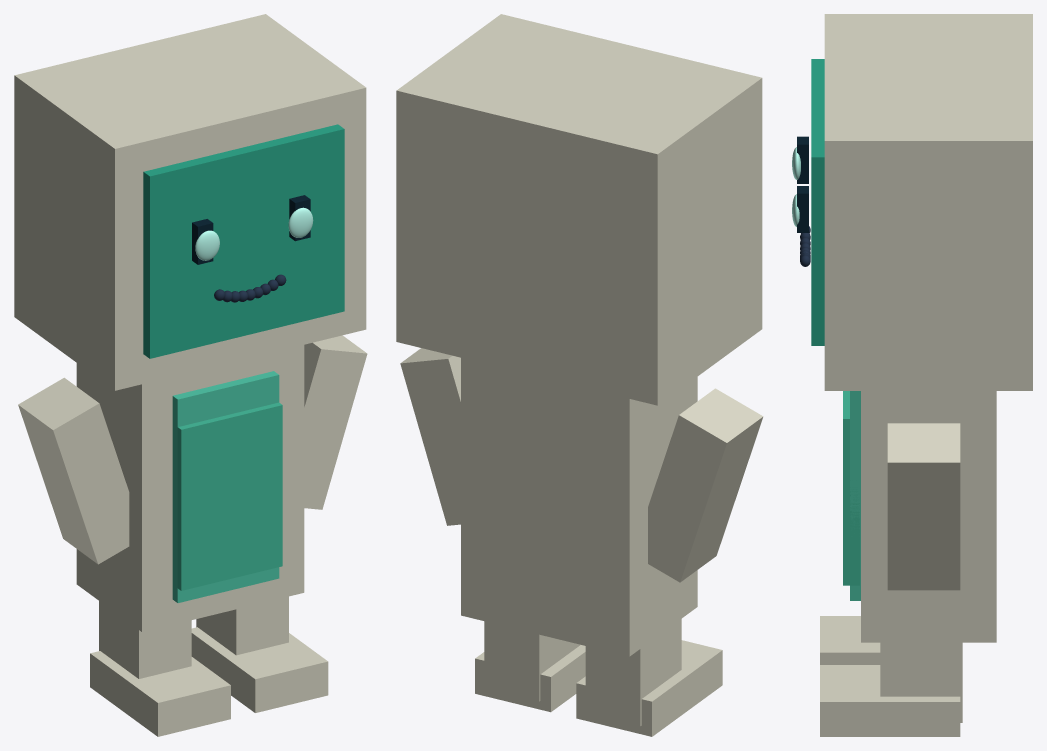
The model's file is tutorbot.glb.
The picture shows the model from 3 angles, left to right: view 1: azimuth 30°, elevation 25°; view 2: azimuth 150°, elevation 25°; view 3: azimuth 270°, elevation 25°; orthographic projection. The views are drawn at different scales.
Visible parts, largest first — view 1: tutorbot-part-00, tutorbot-part-09, tutorbot-part-01, tutorbot-part-10, tutorbot-part-05, tutorbot-part-04, tutorbot-part-08, tutorbot-part-07, tutorbot-part-02, tutorbot-part-03, tutorbot-part-06, tutorbot-part-13 (+1 smaller); view 2: tutorbot-part-00, tutorbot-part-01, tutorbot-part-05, tutorbot-part-08, tutorbot-part-03, tutorbot-part-04, tutorbot-part-06, tutorbot-part-07; view 3: tutorbot-part-00, tutorbot-part-01, tutorbot-part-08, tutorbot-part-07, tutorbot-part-06, tutorbot-part-09, tutorbot-part-04, tutorbot-part-10, tutorbot-part-02, tutorbot-part-12, tutorbot-part-11.
Boxes of the visible parts, x1,y1,x2,y2 form: tutorbot-part-00: (14, 14, 366, 390); tutorbot-part-09: (143, 124, 344, 358); tutorbot-part-01: (76, 345, 304, 632); tutorbot-part-10: (177, 402, 282, 590); tutorbot-part-05: (18, 377, 129, 564); tutorbot-part-04: (90, 651, 230, 736); tutorbot-part-08: (304, 335, 367, 509); tutorbot-part-07: (191, 627, 328, 712); tutorbot-part-02: (172, 371, 279, 602); tutorbot-part-03: (99, 601, 191, 678); tutorbot-part-06: (196, 596, 288, 655); tutorbot-part-13: (195, 230, 219, 260); tutorbot-part-00: (396, 14, 762, 405); tutorbot-part-01: (461, 358, 697, 656); tutorbot-part-05: (648, 388, 763, 582); tutorbot-part-08: (400, 348, 460, 525); tutorbot-part-03: (585, 619, 681, 726); tutorbot-part-04: (576, 640, 722, 736); tutorbot-part-06: (484, 621, 580, 701); tutorbot-part-07: (475, 645, 585, 712); tutorbot-part-00: (824, 14, 1032, 390); tutorbot-part-01: (861, 391, 996, 642); tutorbot-part-08: (887, 423, 960, 590); tutorbot-part-07: (820, 665, 960, 736); tutorbot-part-06: (880, 642, 962, 722); tutorbot-part-09: (811, 59, 824, 345); tutorbot-part-04: (820, 616, 880, 664); tutorbot-part-10: (843, 391, 859, 585); tutorbot-part-02: (850, 391, 860, 600); tutorbot-part-12: (797, 186, 808, 232); tutorbot-part-11: (797, 136, 808, 183).
Size of the model in its own units: 1.55 by 2.81 by 0.995.
